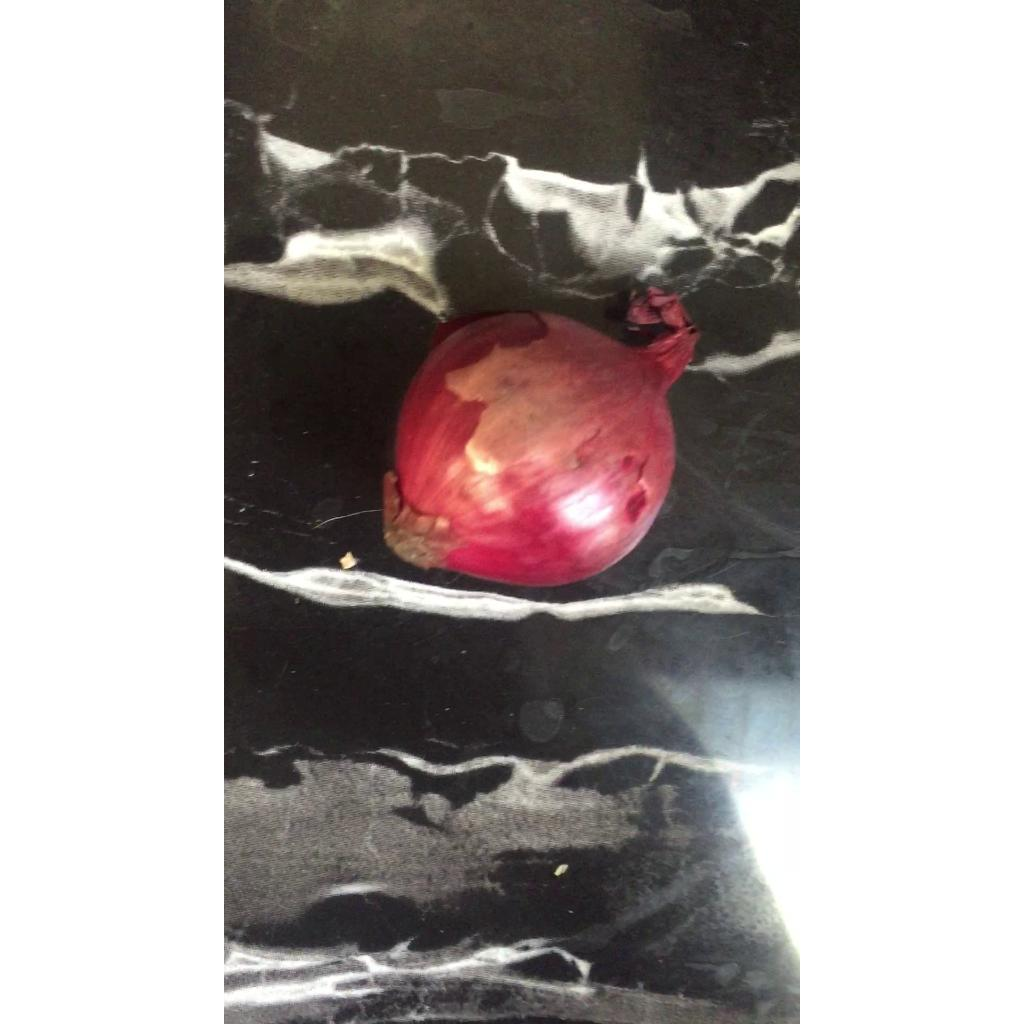Onion: (382, 287, 699, 586)
